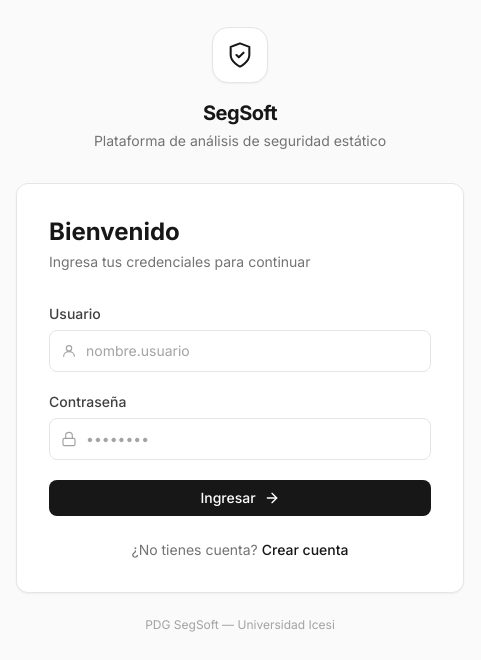
Test: LoginForm › shows error when submitting without password
Type "alice" into the field labelled "Usuario". click: (240, 351)
box: [49, 330, 431, 372]
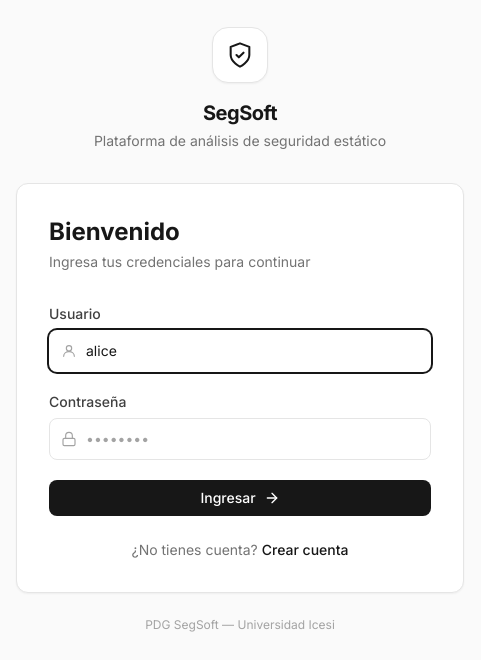
Click the button "Ingresar". click: (240, 498)
box: [49, 480, 431, 516]
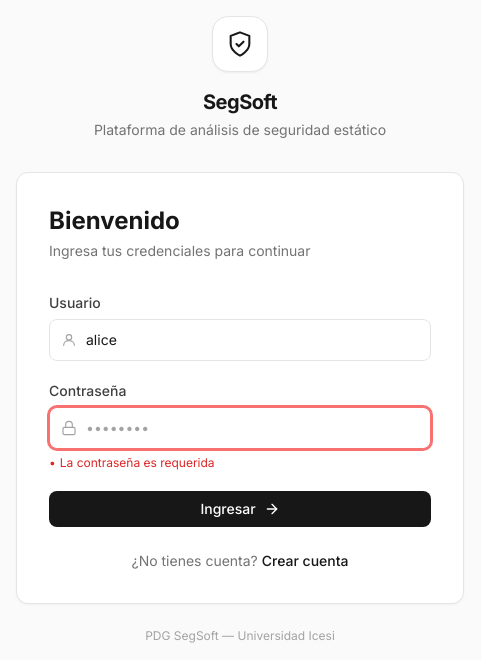
Expected: the text "• La contraseña es requerida" is shown, [49, 455, 215, 470]
